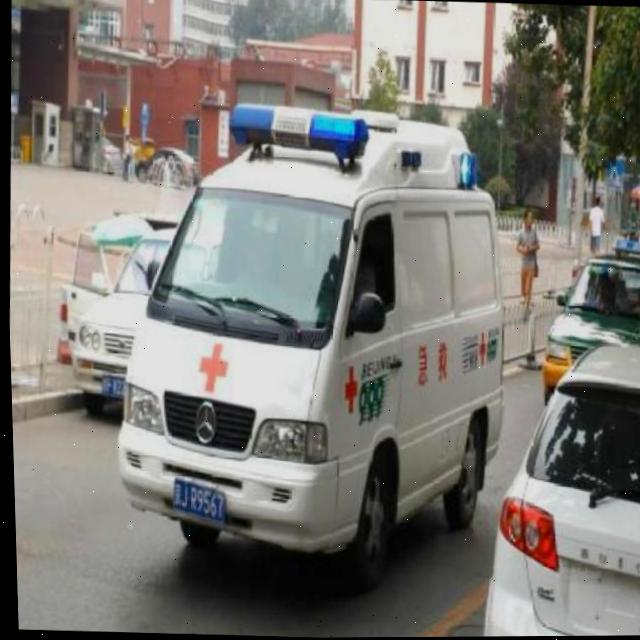emergency: (100, 96, 516, 594)
